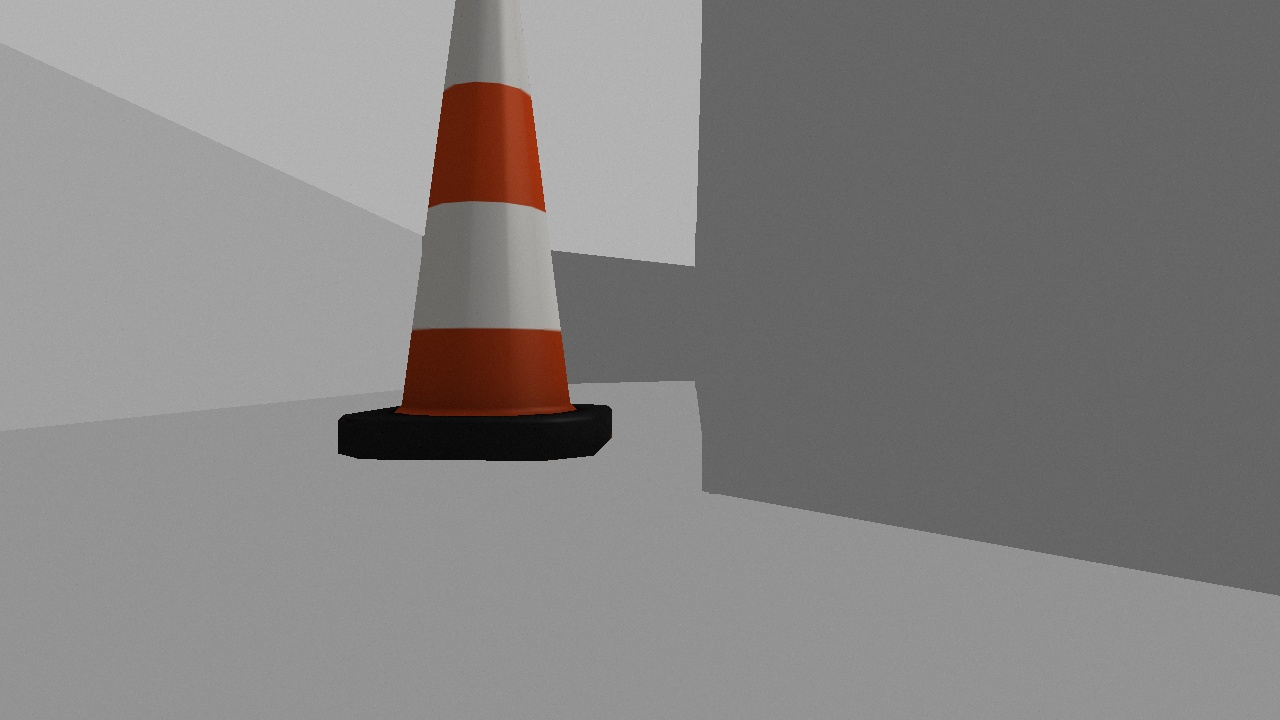barricade: (337, 1, 613, 464)
